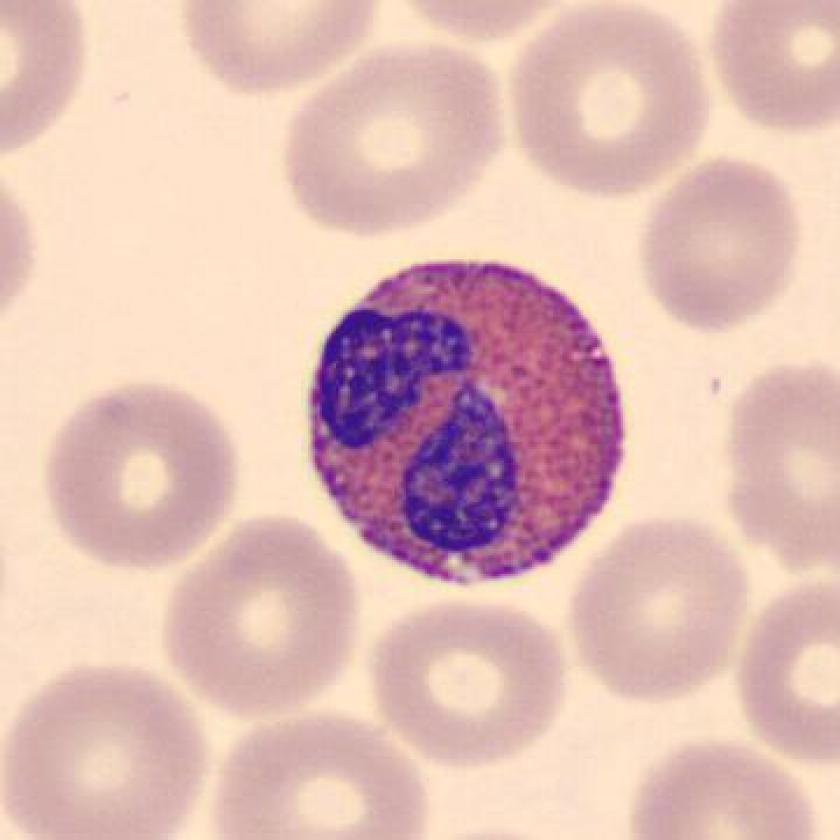eosinophil: (293, 249, 636, 605)
